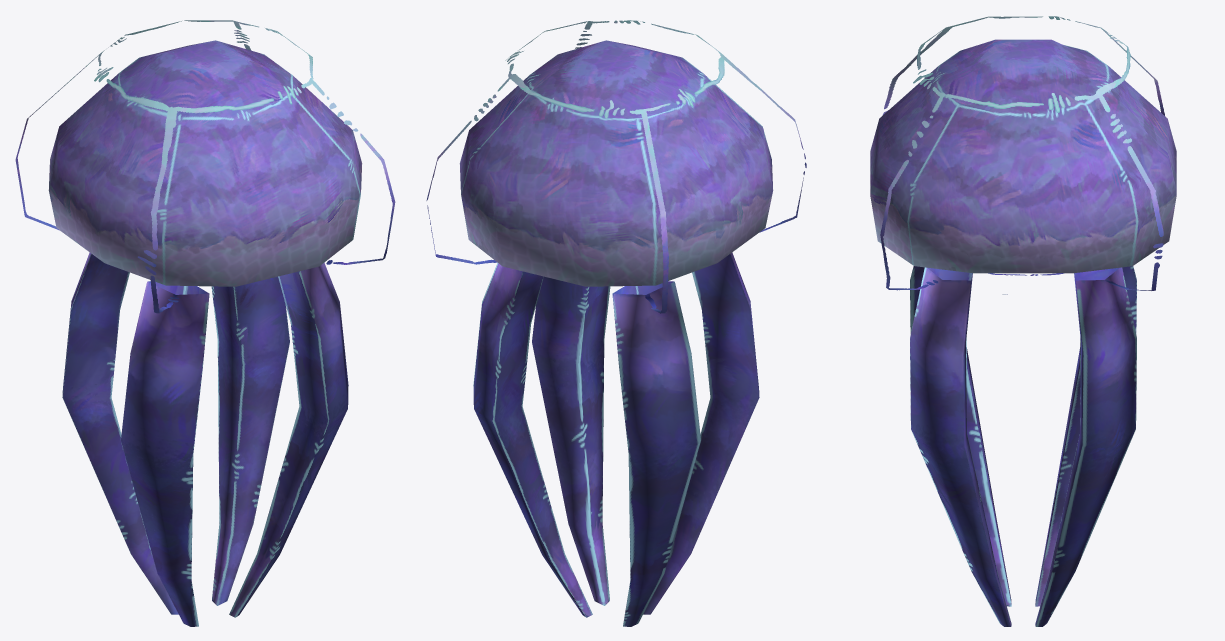
File: Jelly_Fish.fbx
3 views of the same model, side by side, from view 1: azimuth 30°, elevation 25°; view 2: azimuth 150°, elevation 25°; view 3: azimuth 270°, elevation 25° (orthographic).
Parts seen in each view (by area): view 1: Jelly_fish; view 2: Jelly_fish; view 3: Jelly_fish.
Boxes of the visible parts, x1,y1,x2,y2 form: Jelly_fish: (15, 20, 395, 626); Jelly_fish: (426, 20, 806, 626); Jelly_fish: (870, 16, 1176, 626).
Bounding box in the file's own units: 0.7417 × 1.28 × 0.7417.
1 material, 1 textured.
